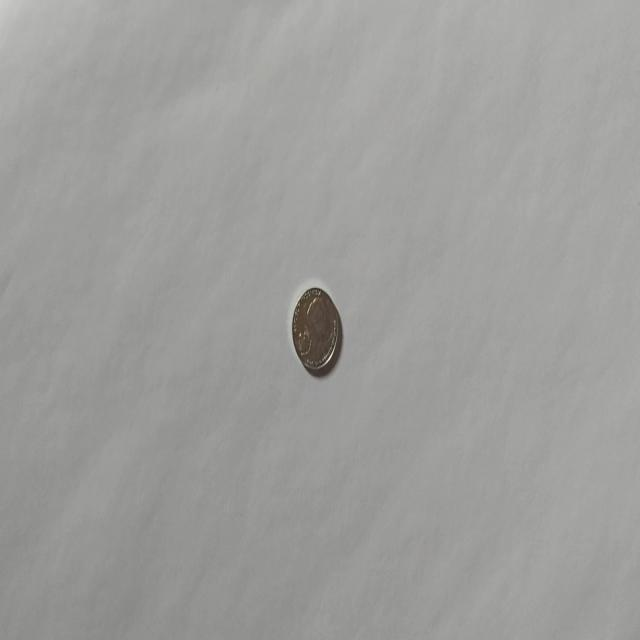seratus rupiah: (291, 284, 340, 374)
